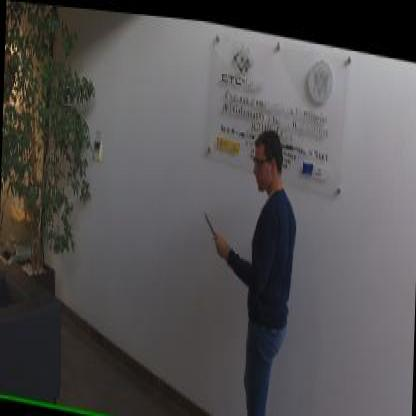knife: (200, 198, 220, 237)
